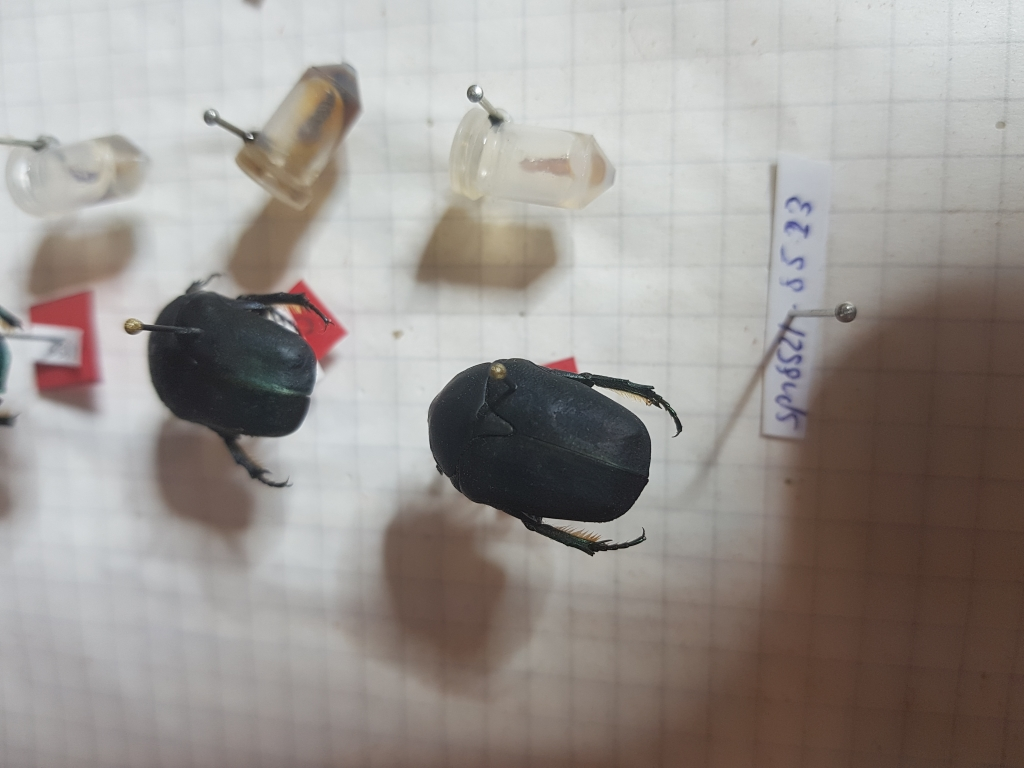Protaetia_afflicta: (415, 348, 691, 566), (133, 267, 332, 499)
